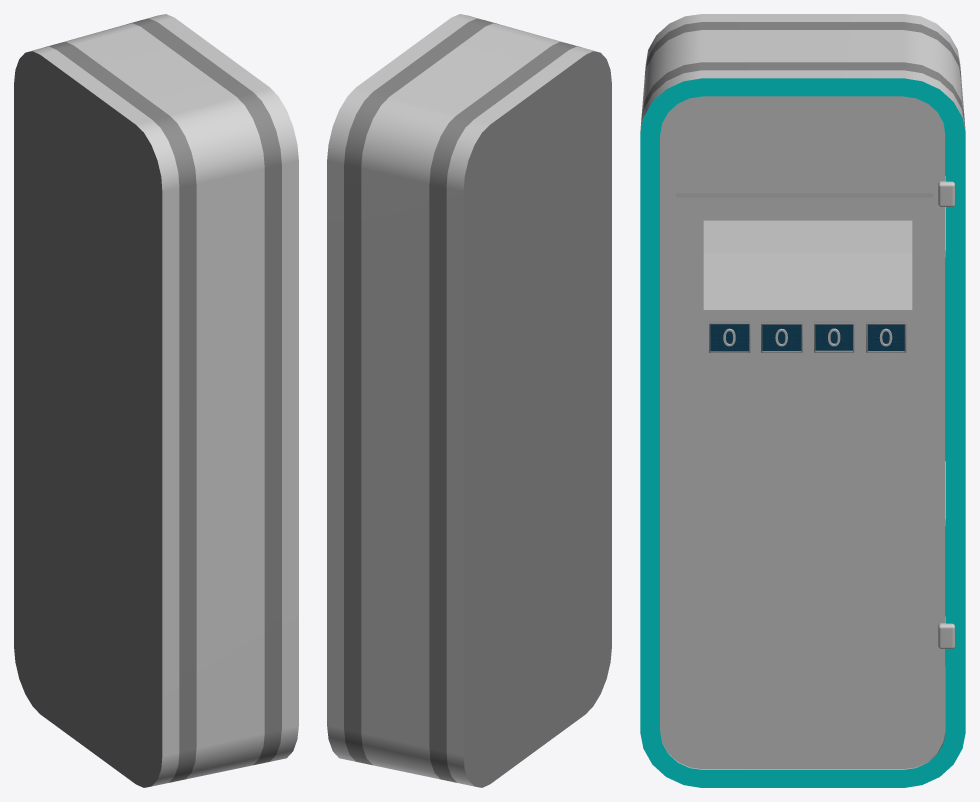
File: locker.fbx
The picture shows the model from 3 angles, left to right: view 1: azimuth 30°, elevation 25°; view 2: azimuth 150°, elevation 25°; view 3: azimuth 270°, elevation 25°; orthographic projection. The views are drawn at different scales.
Visible parts, largest first — view 1: locker_base; view 2: locker_base; view 3: door1, locker_base.
Boxes of the visible parts, x1,y1,x2,y2 form: locker_base: (14,14,298,787); locker_base: (327,14,611,787); door1: (660,96,945,769); locker_base: (640,14,965,787).
Size of the model in its own units: 0.5025 by 2.07 by 0.8602.
6 materials, 1 textured.
